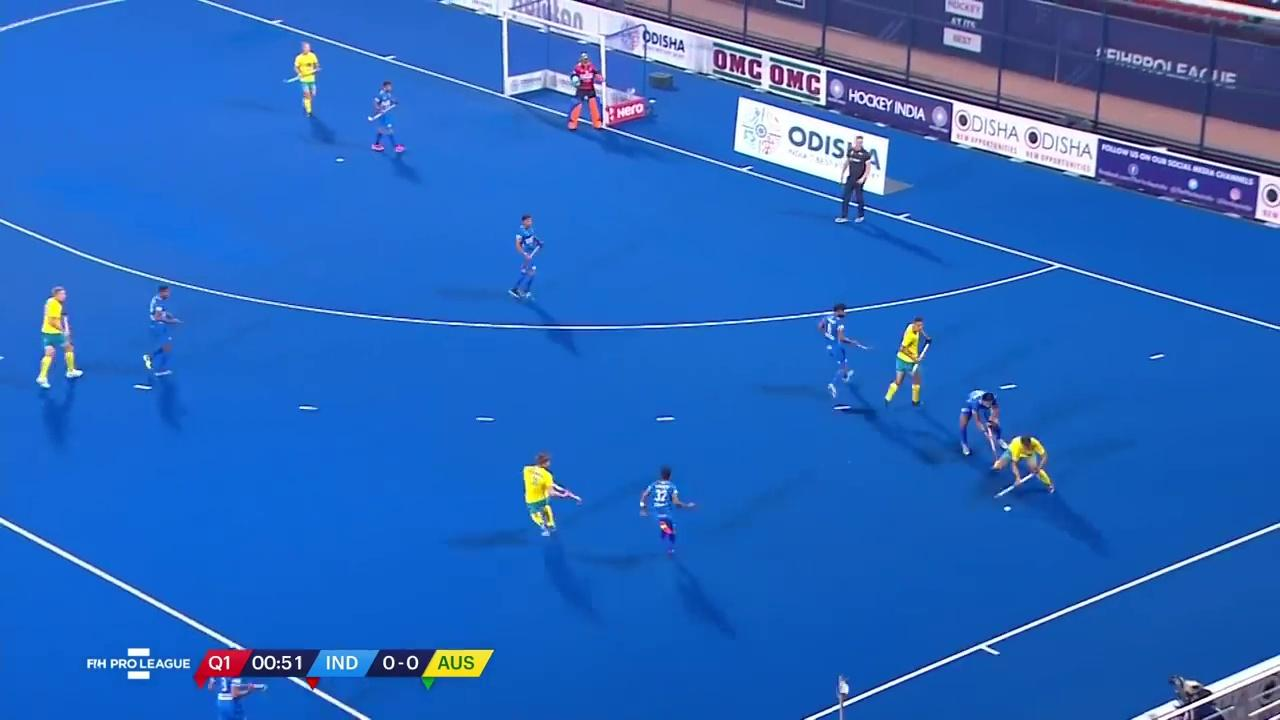ball: (997, 497, 1019, 520)
